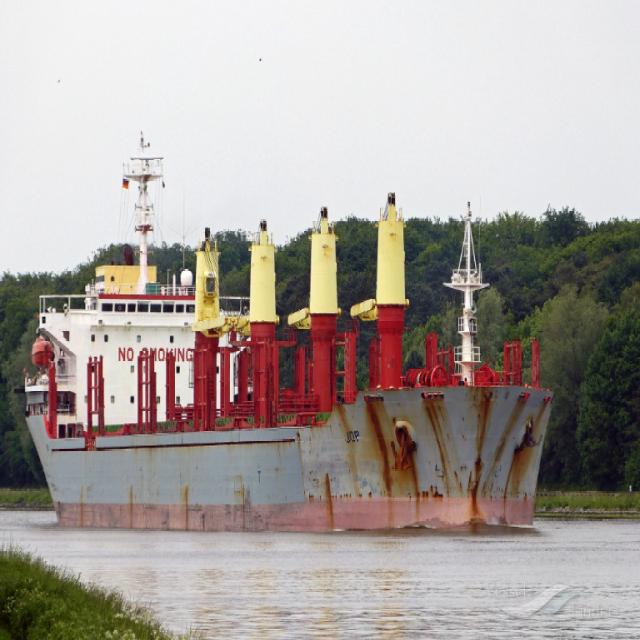OCR: (342, 420, 365, 454)
